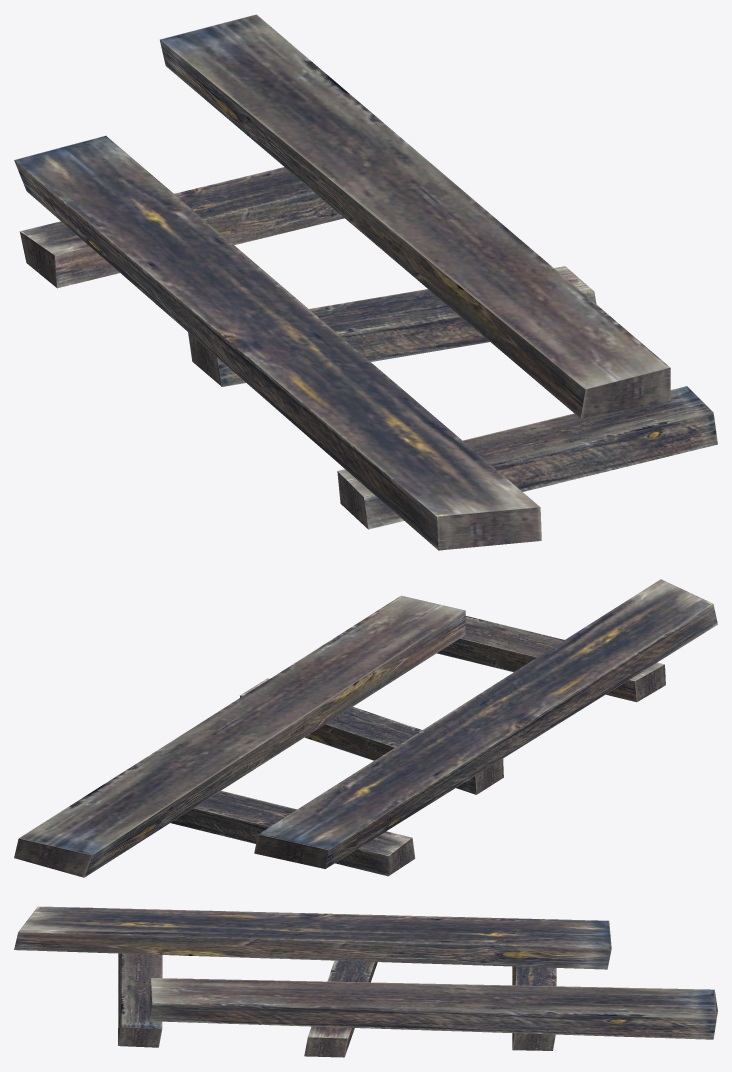
Rendered from m_way11.glb.
3 views of the same model, one above another, from view 1: azimuth 30°, elevation 25°; view 2: azimuth 150°, elevation 25°; view 3: azimuth 270°, elevation 25° (orthographic). The views are drawn at different scales.
Visible parts, largest first — view 1: m_way11-col; view 2: m_way11-col; view 3: m_way11-col.
Boxes of the visible parts, x1,y1,x2,y2 form: m_way11-col: (14,14,717,550); m_way11-col: (14,579,717,877); m_way11-col: (14,906,717,1057).
Size of the model in its own units: 1.35 by 0.2002 by 3.45.
1 material, 1 textured.
